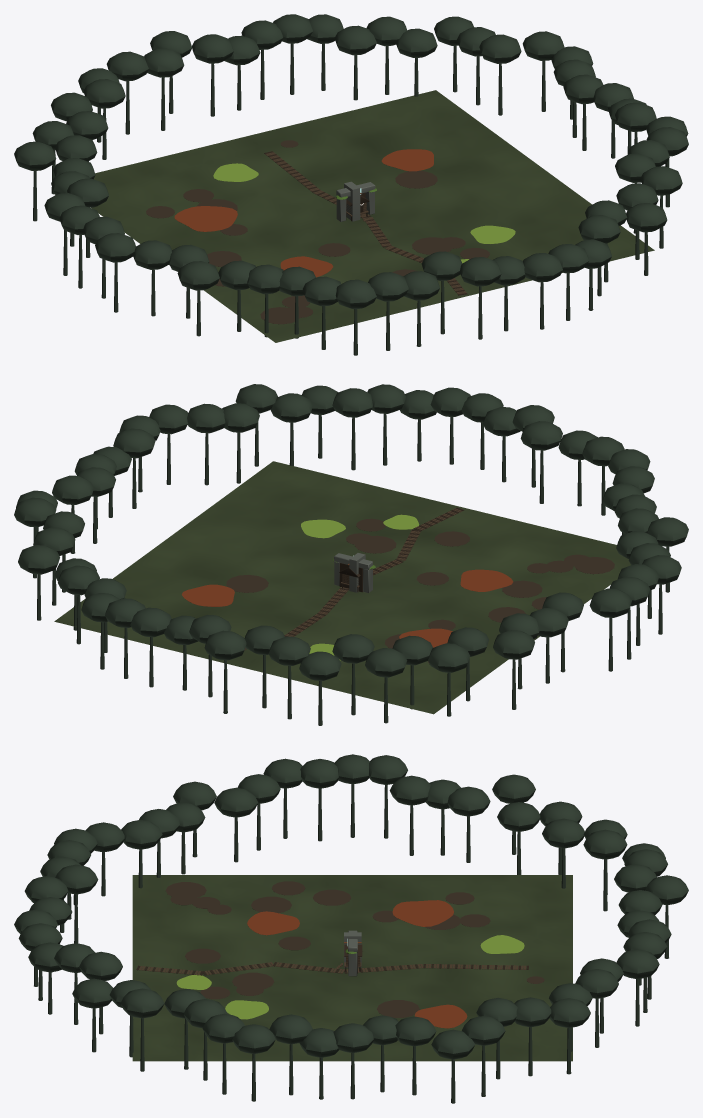
Rendered from marsh.glb.
3 views of the same model, one above another, from view 1: azimuth 30°, elevation 25°; view 2: azimuth 150°, elevation 25°; view 3: azimuth 270°, elevation 25° (orthographic).
Visible parts, largest first — view 1: ms_pools, ms_ground, ms_path, ms_forge; view 2: ms_ground, ms_pools, ms_path, ms_forge; view 3: ms_ground, ms_pools, ms_path.
Part boxes in pixels (x1,y1,x2,y2): ms_pools: (14, 14, 688, 355); ms_ground: (91, 90, 654, 342); ms_path: (264, 151, 467, 295); ms_forge: (336, 182, 376, 221); ms_ground: (54, 461, 630, 714); ms_pools: (14, 384, 688, 725); ms_path: (284, 507, 464, 636); ms_forge: (333, 553, 375, 592); ms_ground: (132, 875, 572, 1061); ms_pools: (14, 754, 688, 1103); ms_path: (136, 962, 528, 975).
Size of the model in its own units: 153 by 19.99 by 153.
